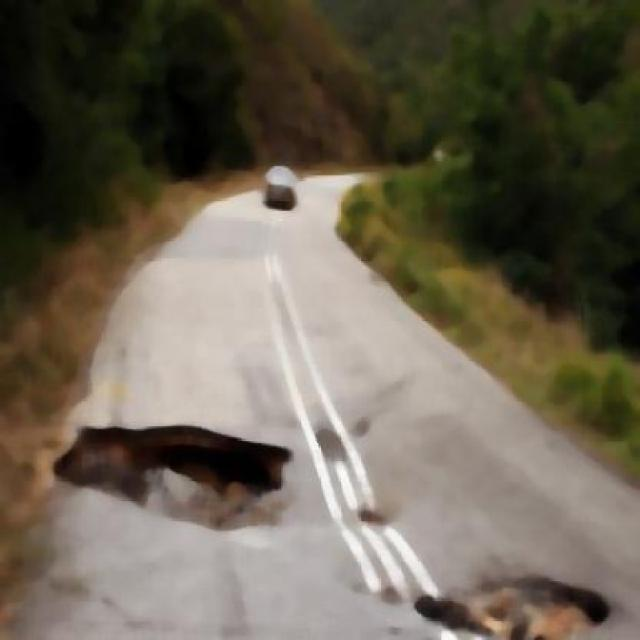Pothole: (62, 401, 287, 550), (386, 540, 639, 638)
